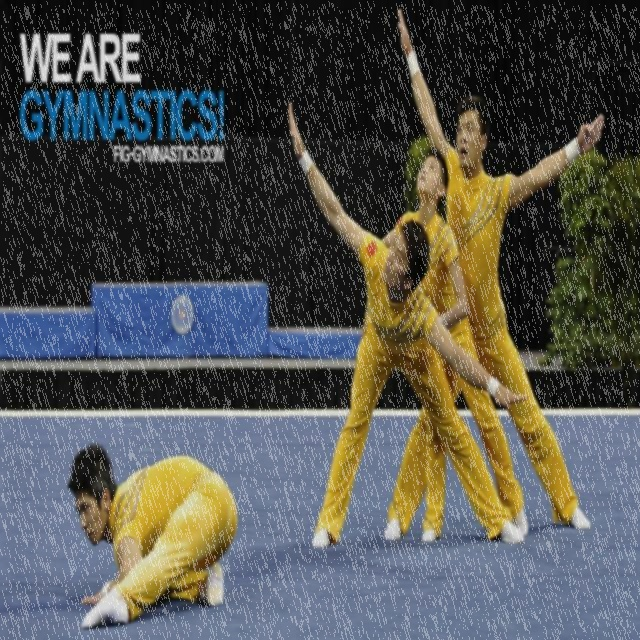pessoa: (382, 4, 606, 545), (286, 96, 530, 548), (380, 150, 530, 542), (65, 437, 242, 639)
